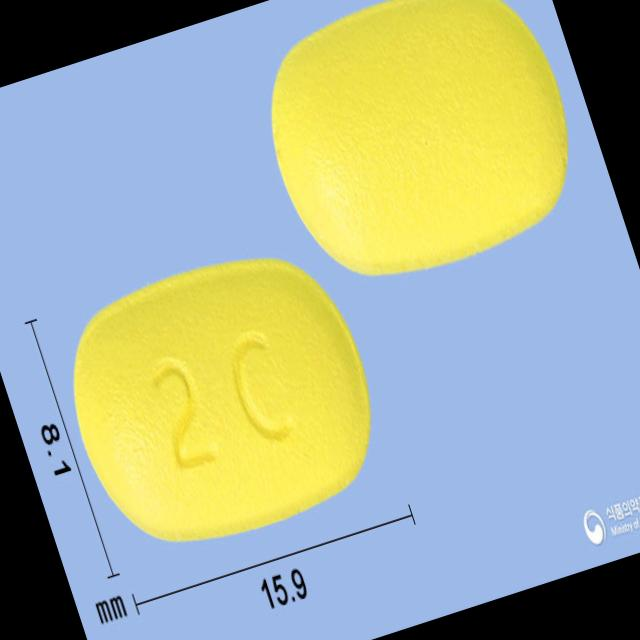Clithocin - 500mg: (37, 225, 404, 580)
